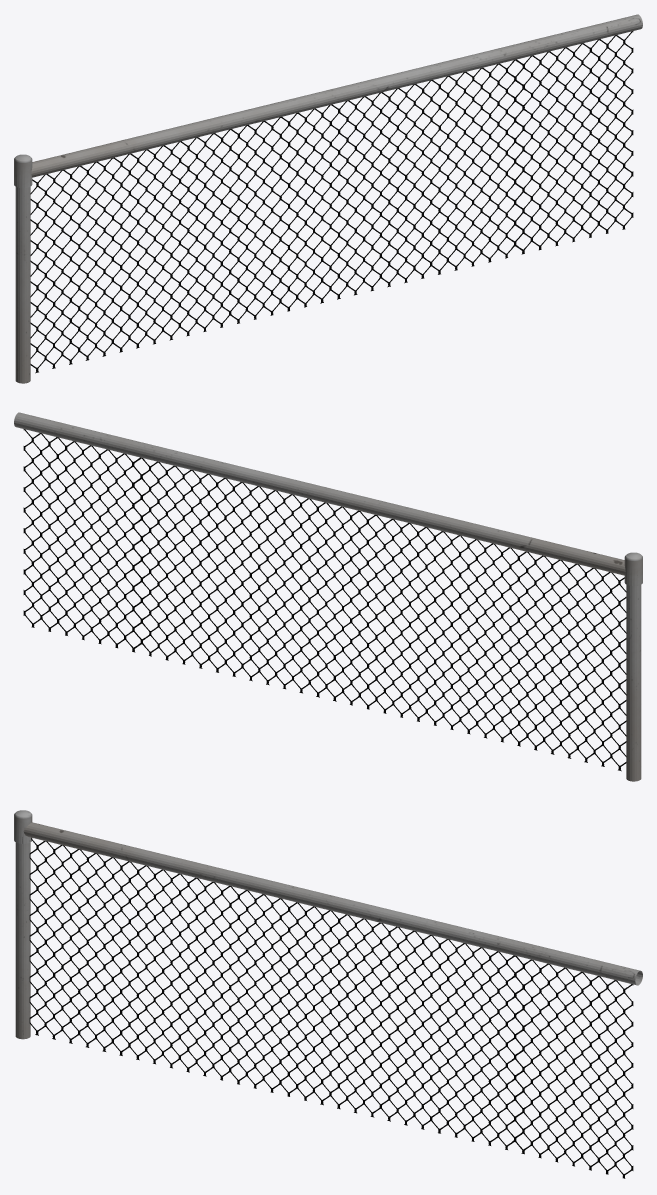
The model's file is chain_fence_straight.fbx.
The picture shows the model from 3 angles, top to bottom: view 1: azimuth 30°, elevation 25°; view 2: azimuth 150°, elevation 25°; view 3: azimuth 330°, elevation 25°; orthographic projection.
Parts seen in each view (by area): view 1: chain_fence_straight; view 2: chain_fence_straight; view 3: chain_fence_straight.
Boxes of the visible parts, x1,y1,x2,y2 form: chain_fence_straight: [14, 14, 642, 383]; chain_fence_straight: [14, 412, 642, 781]; chain_fence_straight: [14, 810, 642, 1178].
Bounding box in the file's own units: 3.04 × 1.04 × 0.0776.
2 materials, 2 textured.
